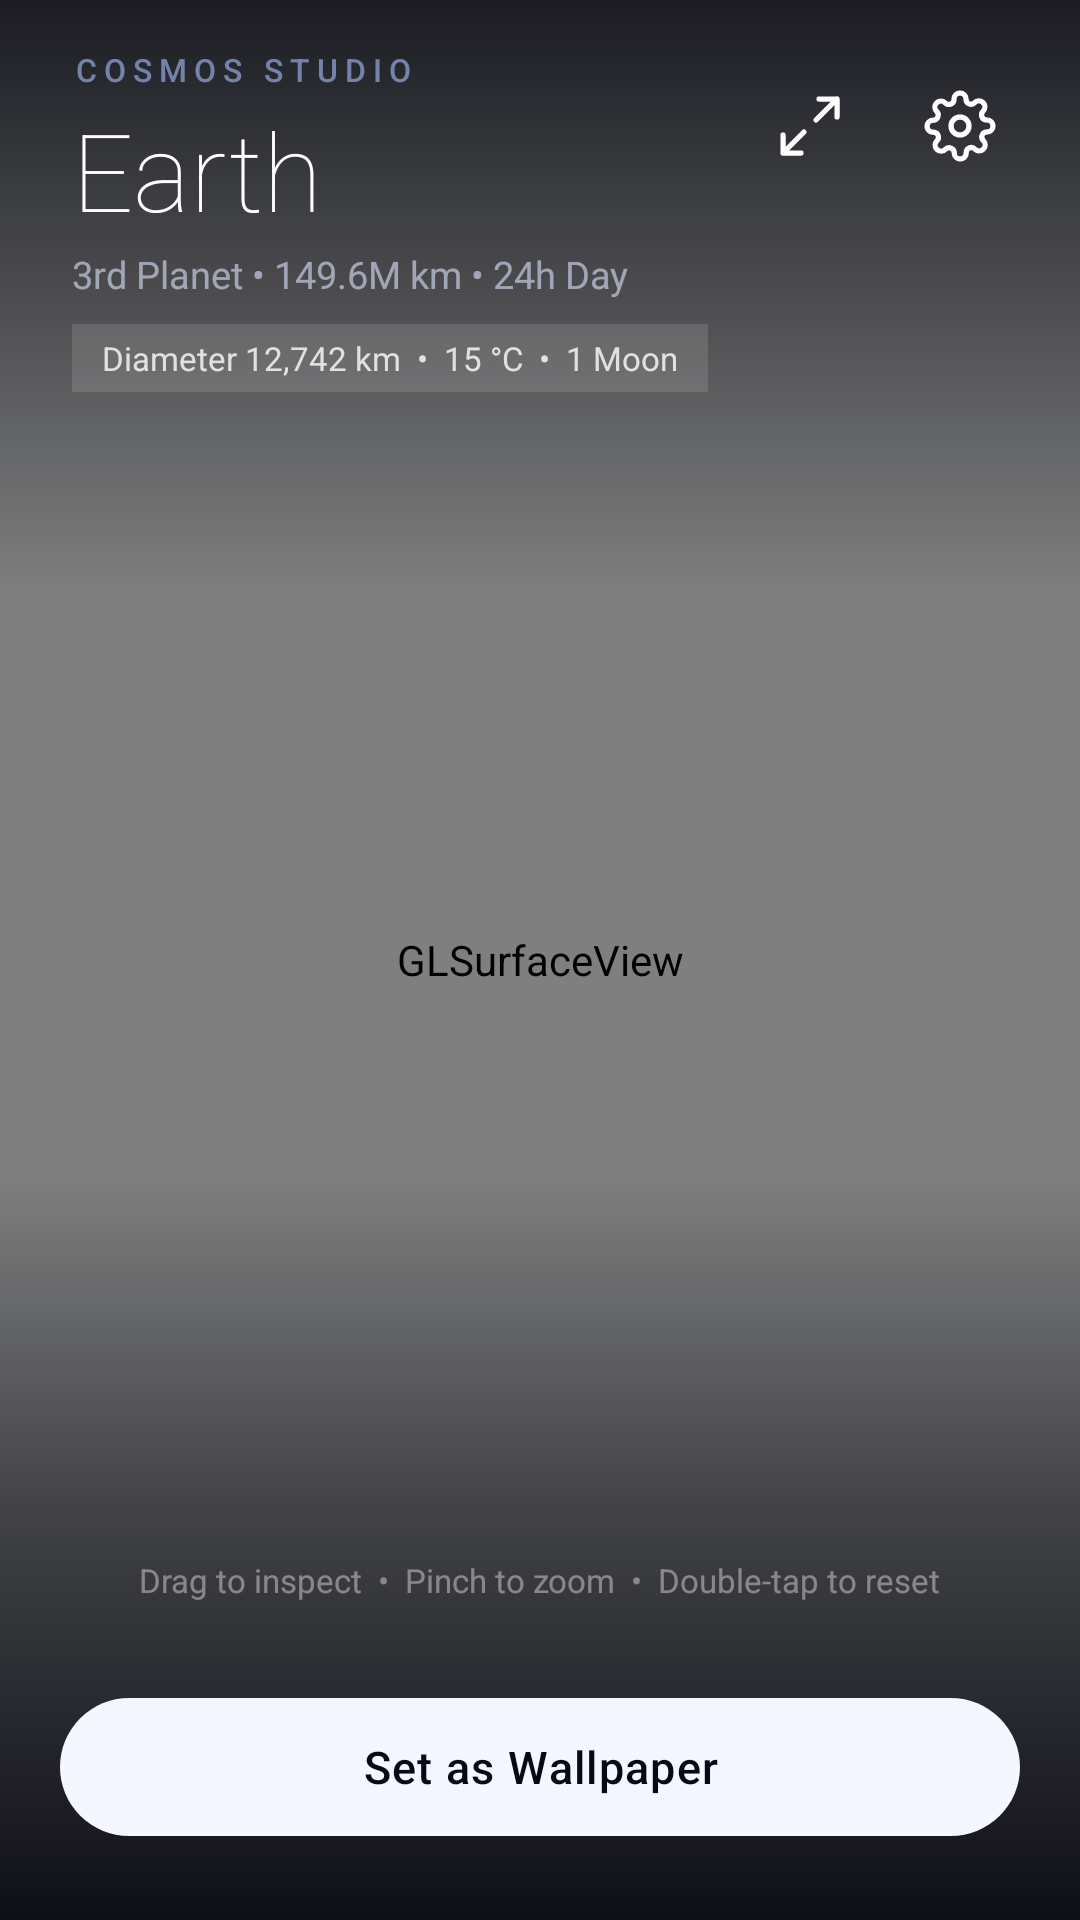

Icons on this 1080 × 1920 Android screen, each with the point to tap as [x,y]:
Settings: [960,114]
